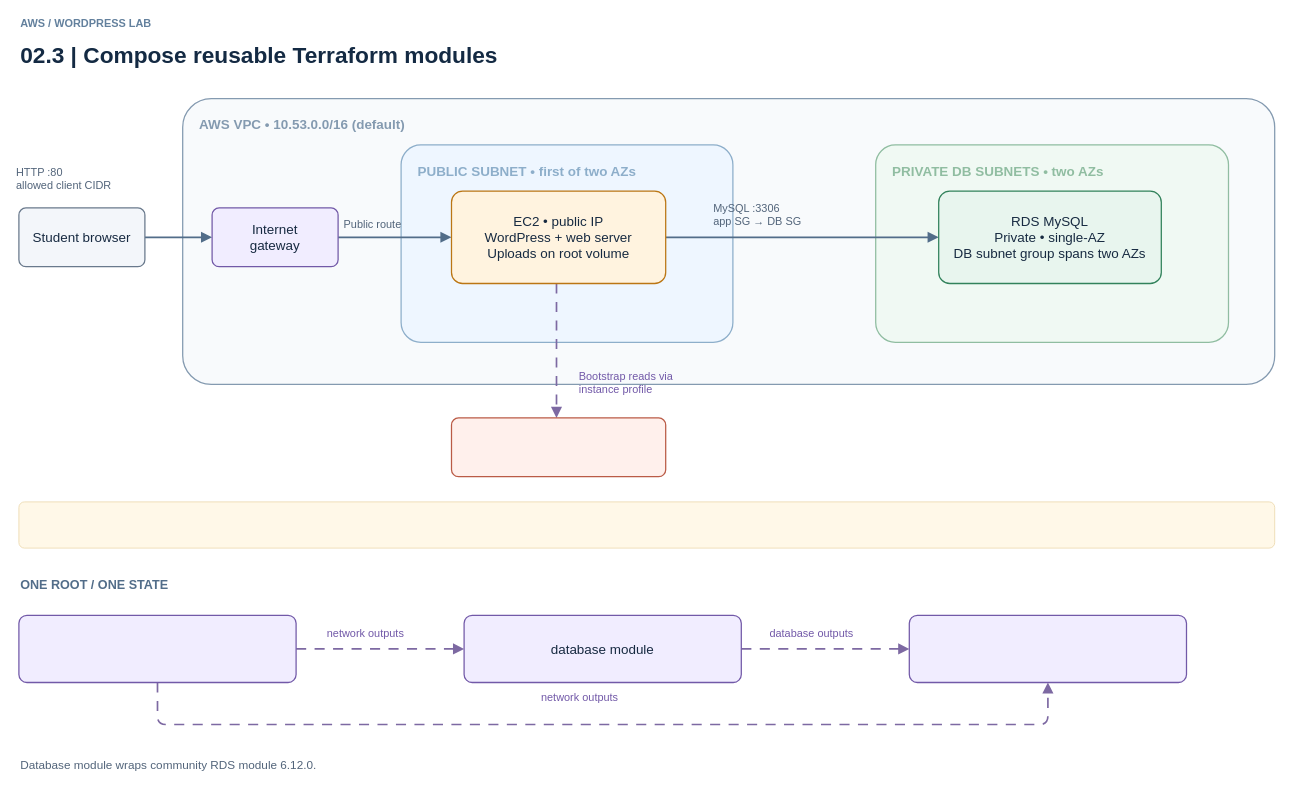
This 1289x793 diagram has some shape labels left out. The centre of each missing label's shape, as x and y in pixels:
network module: (157,648)
RDS stores database records; uploads remain on the EC2 root volume.: (646,524)
Secrets Manager Application + RDS master secrets: (558,447)
wordpress module: (1047,648)
